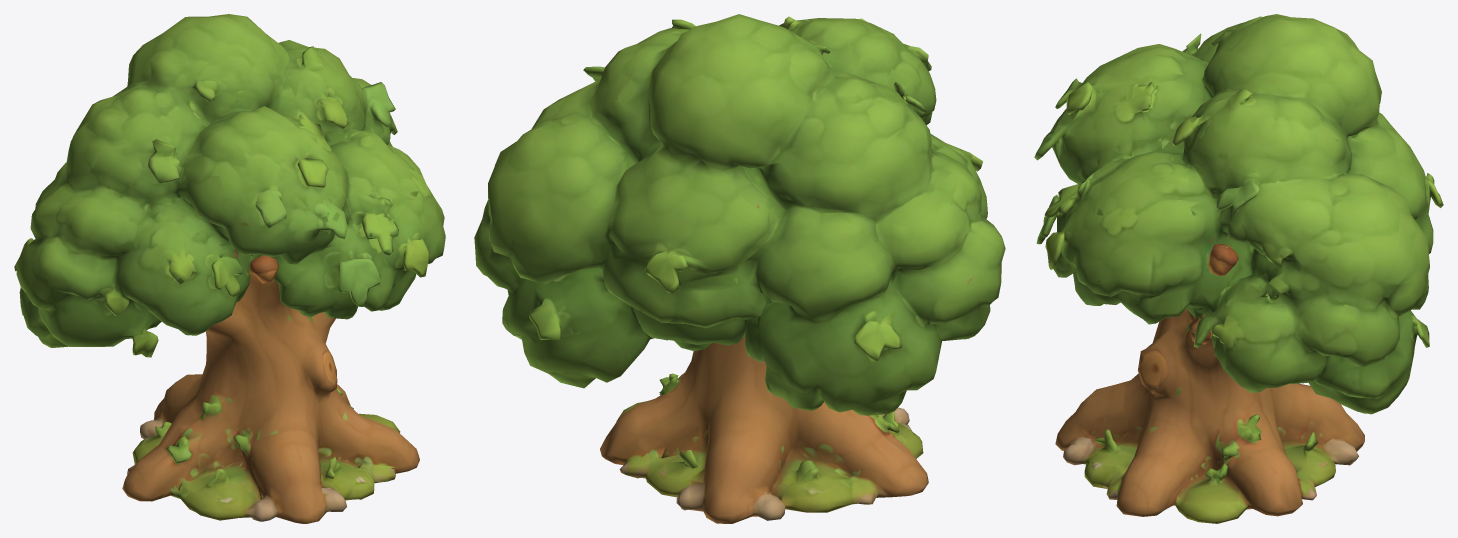
3 renders of one model, left to right at view 1: azimuth 30°, elevation 25°; view 2: azimuth 150°, elevation 25°; view 3: azimuth 270°, elevation 25°, orthographic. The views are drawn at different scales.
Parts seen in each view (by area): view 1: tree-oak; view 2: tree-oak; view 3: tree-oak.
Part boxes in pixels (x1,y1,x2,y2): tree-oak: (14,14,445,523); tree-oak: (474,14,1005,523); tree-oak: (1034,14,1443,523).
Bounding box in the file's own units: 6.16 × 6 × 5.11.
1 material, 1 textured.
